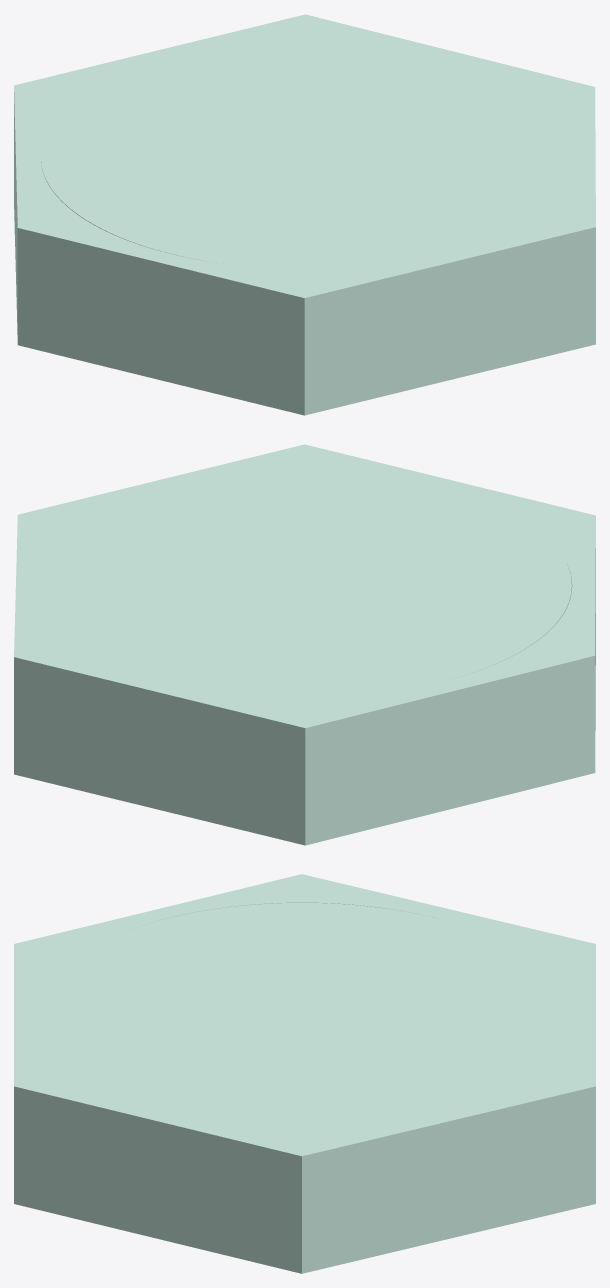
3 views of the same model, one above another, from view 1: azimuth 30°, elevation 25°; view 2: azimuth 150°, elevation 25°; view 3: azimuth 270°, elevation 25° (orthographic).
Visible parts, largest first — view 1: Renderer Node; view 2: Renderer Node; view 3: Renderer Node.
Boxes of the visible parts, left/top/right/bottom form: Renderer Node: left=14, top=14, right=595, bottom=415; Renderer Node: left=14, top=444, right=595, bottom=845; Renderer Node: left=14, top=874, right=595, bottom=1273.
Bounding box in the file's own units: 1.49 × 0.2891 × 1.3.
